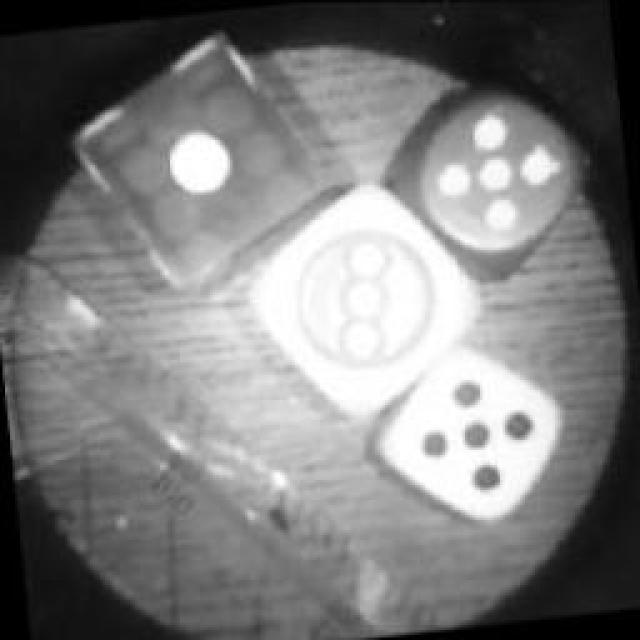dice_1: (38, 5, 352, 315)
dice_3: (230, 166, 505, 432)
dice_5: (369, 68, 599, 292), (352, 330, 588, 545)
